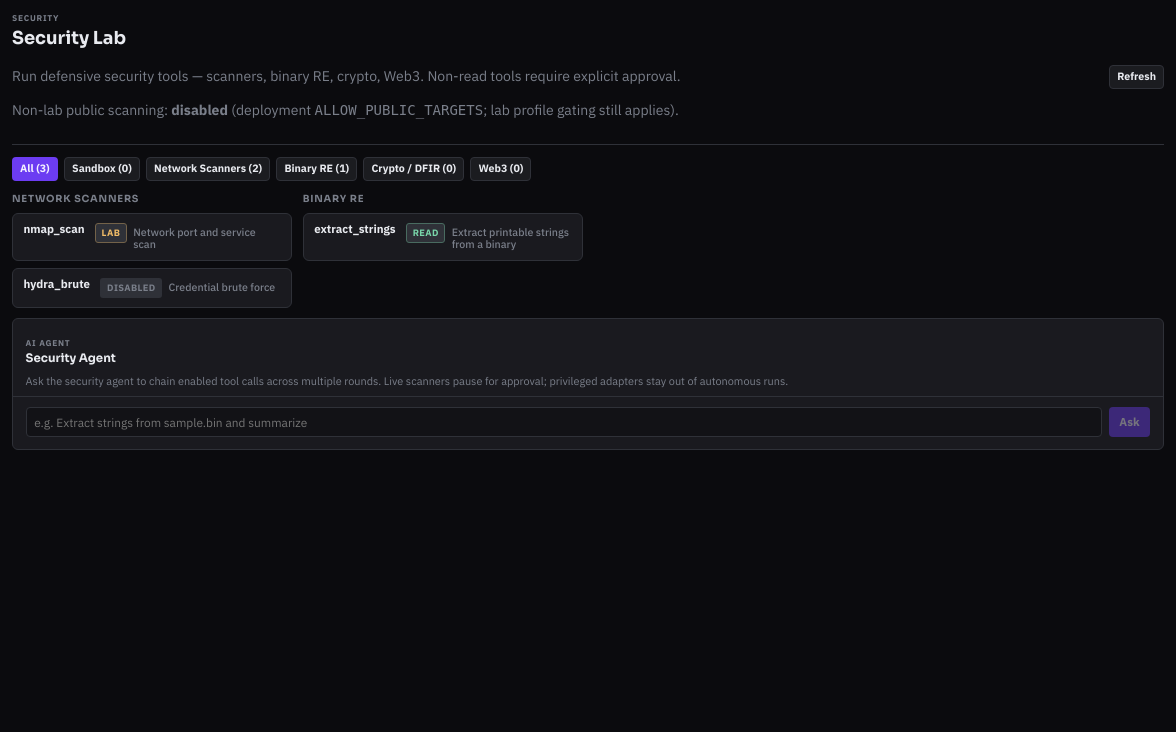
Scenario: Security Lab capability gating › marks a gateway-disabled capability instead of offering it as runnable
Click the text "hydra_brute": (57, 284) [24,278,90,290]
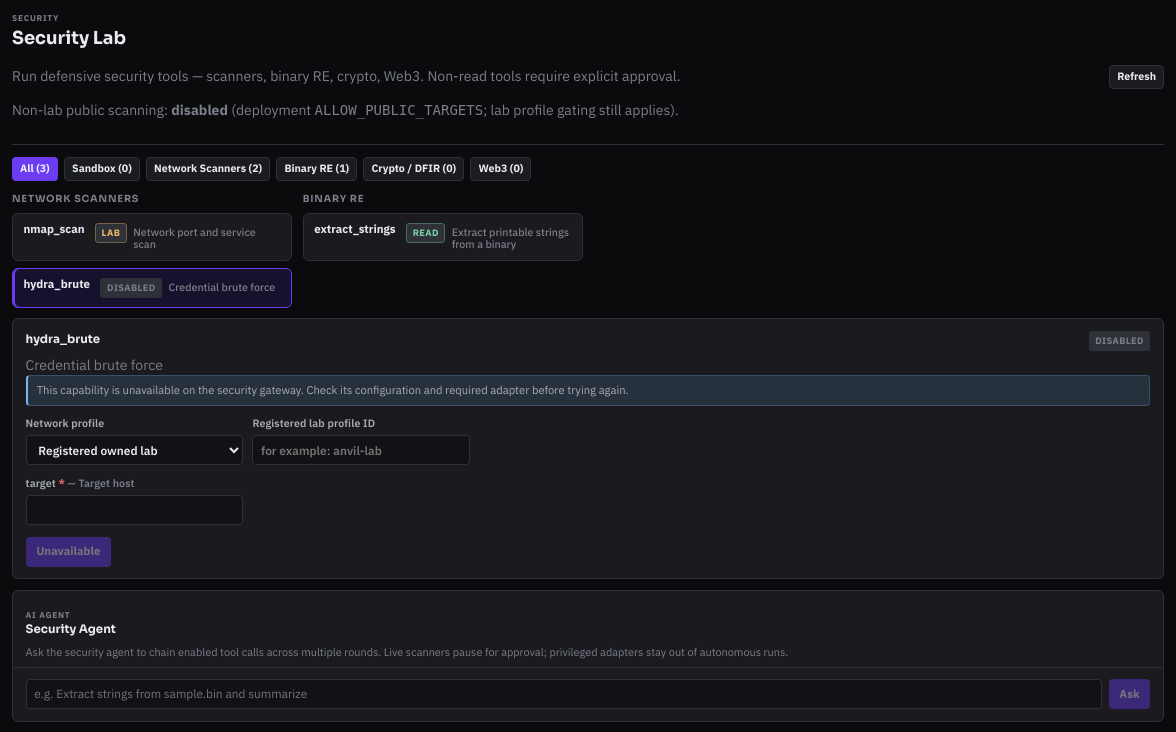
Expected: the text "disabled" next to "(deployment" is shown, [171,101,228,119]
Expected: the text "unavailable on the security gateway" is shown, [37,383,629,397]
